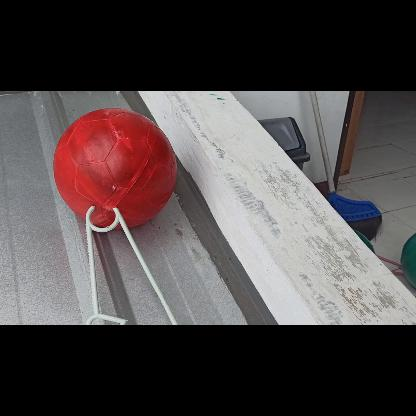red_ball: (52, 108, 174, 230)
